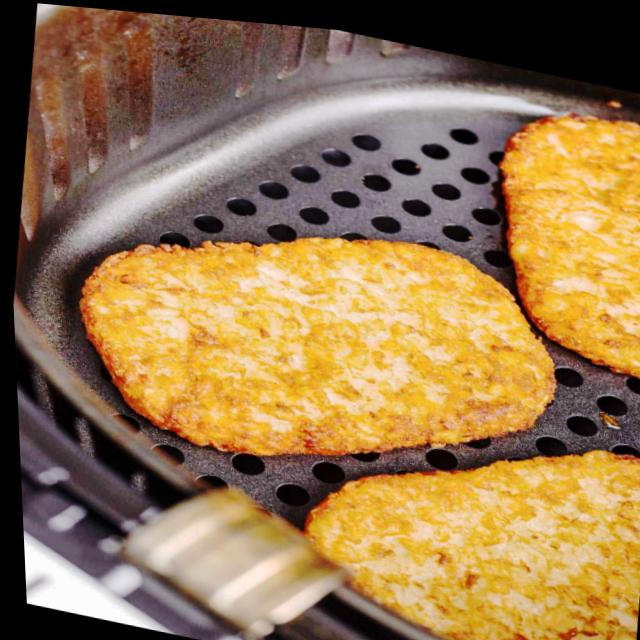Hashbrown: (60, 171, 574, 521), (290, 388, 640, 640), (472, 91, 640, 384)
